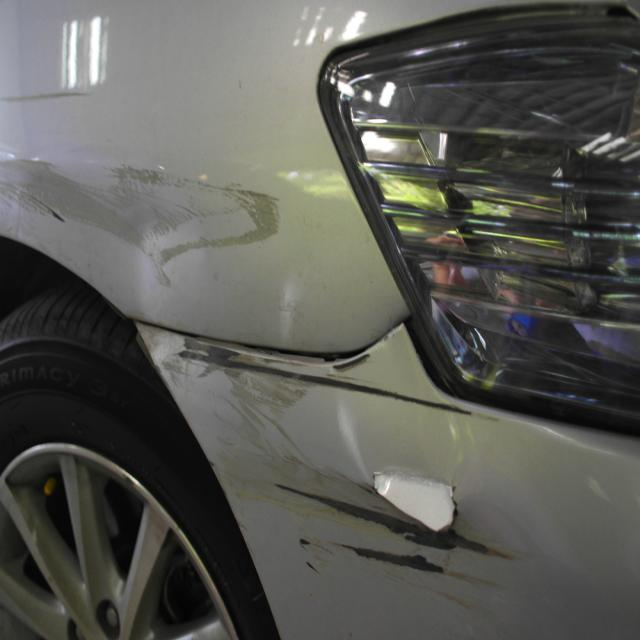crack: (369, 468, 459, 535)
dent: (0, 159, 199, 319)
scratch: (161, 333, 518, 617), (106, 160, 290, 254)
